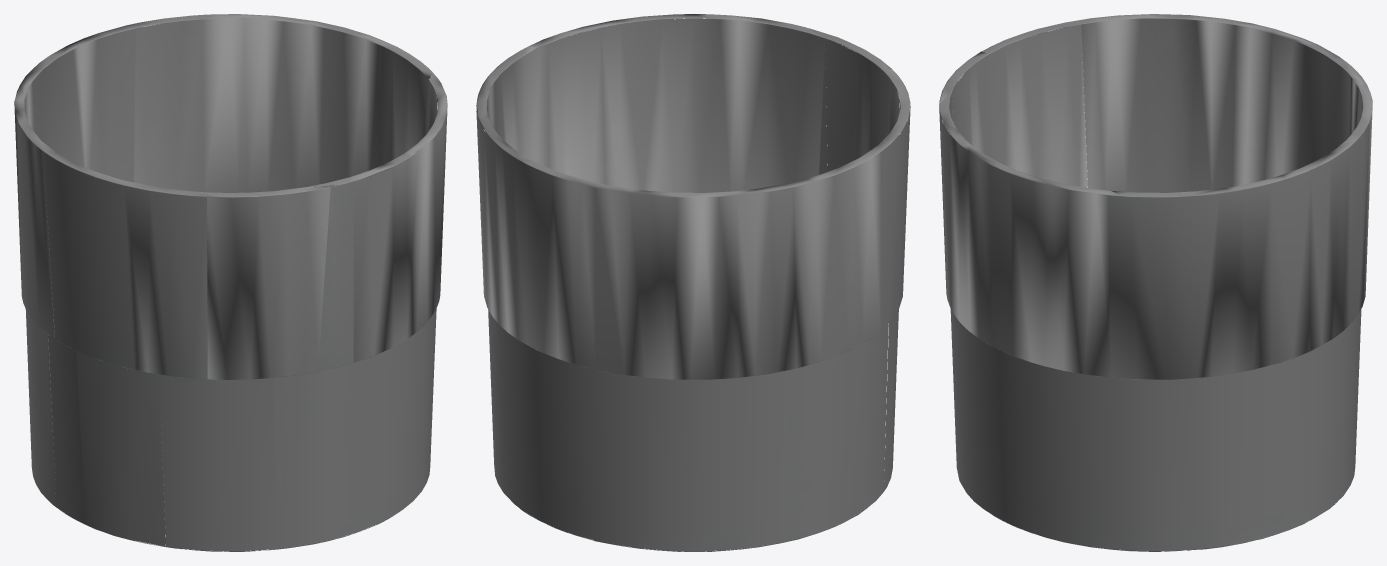
3 views of the same model, side by side, from view 1: azimuth 30°, elevation 25°; view 2: azimuth 150°, elevation 25°; view 3: azimuth 270°, elevation 25° (orthographic).
Visible parts, largest first — view 1: nypon-32; view 2: nypon-32; view 3: nypon-32.
Boxes of the visible parts, x1,y1,x2,y2 form: nypon-32: (14,14,447,551); nypon-32: (476,14,910,551); nypon-32: (939,14,1372,551).
Bounding box in the file's own units: 0.3391 × 0.3151 × 0.3389.
1 material, 1 textured.
